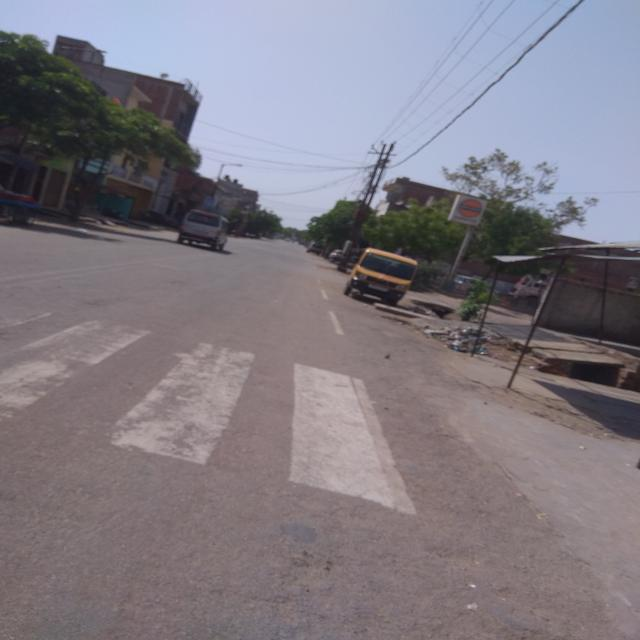car_back: (171, 201, 240, 259)
car_front: (343, 243, 421, 318)
